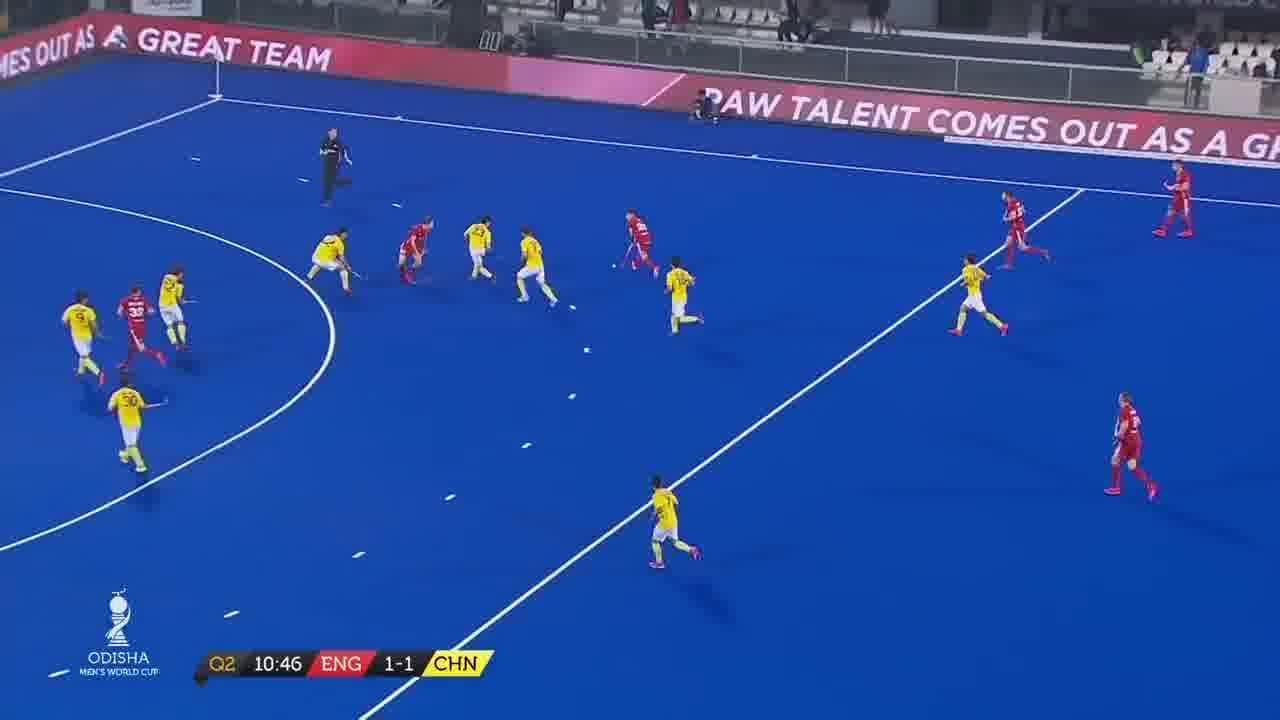ball: (608, 260, 624, 271)
